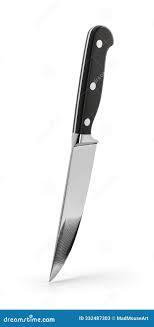Knife: (48, 24, 113, 282)
